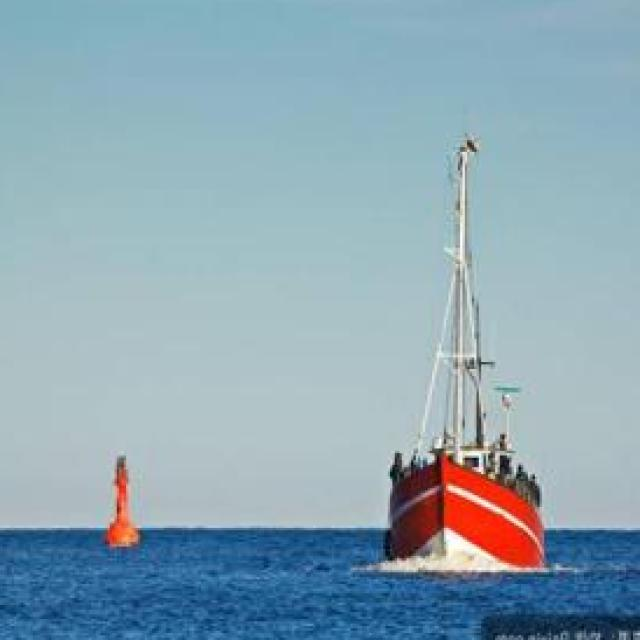fishing boat: (384, 130, 553, 577)
